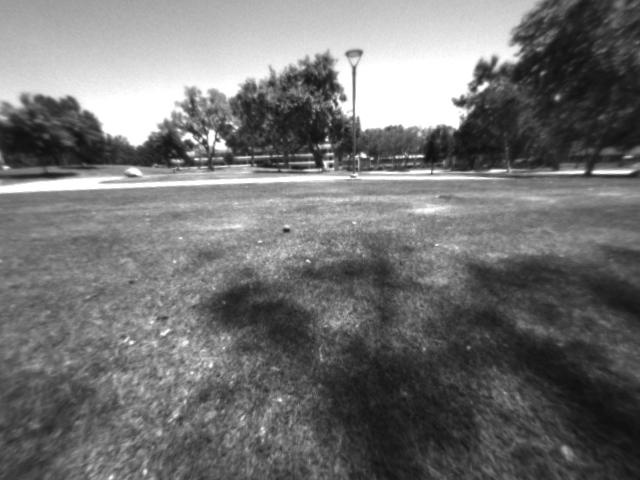dogtoy: (274, 216, 298, 242)
